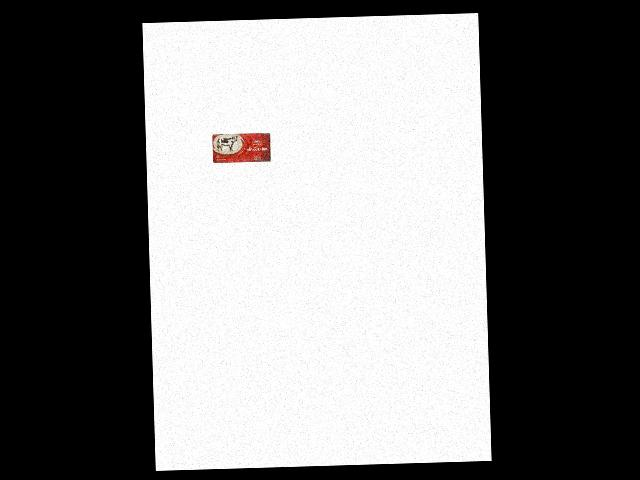chocolate: (212, 132, 272, 164)
